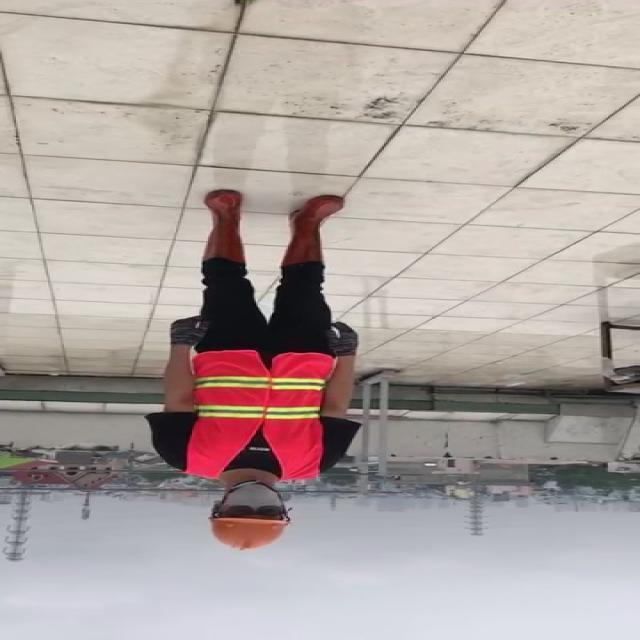Boots: (282, 194, 350, 266), (199, 190, 245, 262)
Gloves: (163, 313, 217, 348), (322, 320, 366, 360)
Helmet: (205, 515, 290, 552)
Vest: (185, 349, 336, 482)
